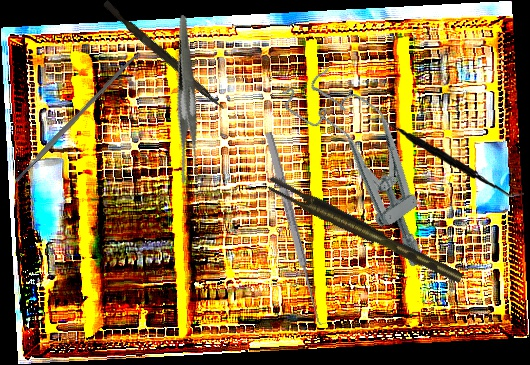Dressing Forceps: (136, 14, 241, 187)
Hook Surgical: (262, 129, 333, 327)
Pusher: (100, 0, 229, 111)
Scalpel Handle: (12, 51, 140, 184)
Spatula Surgical: (367, 108, 525, 204)
Speculum: (277, 52, 463, 277)
Tissue Forceps: (265, 170, 464, 293)
